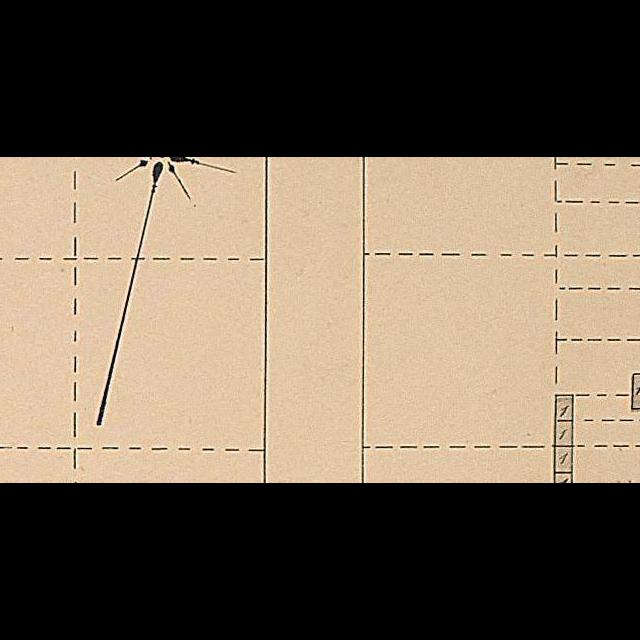building-footprints: (554, 445, 572, 473), (555, 421, 573, 447), (556, 394, 573, 421), (633, 374, 640, 409), (555, 472, 572, 483)
